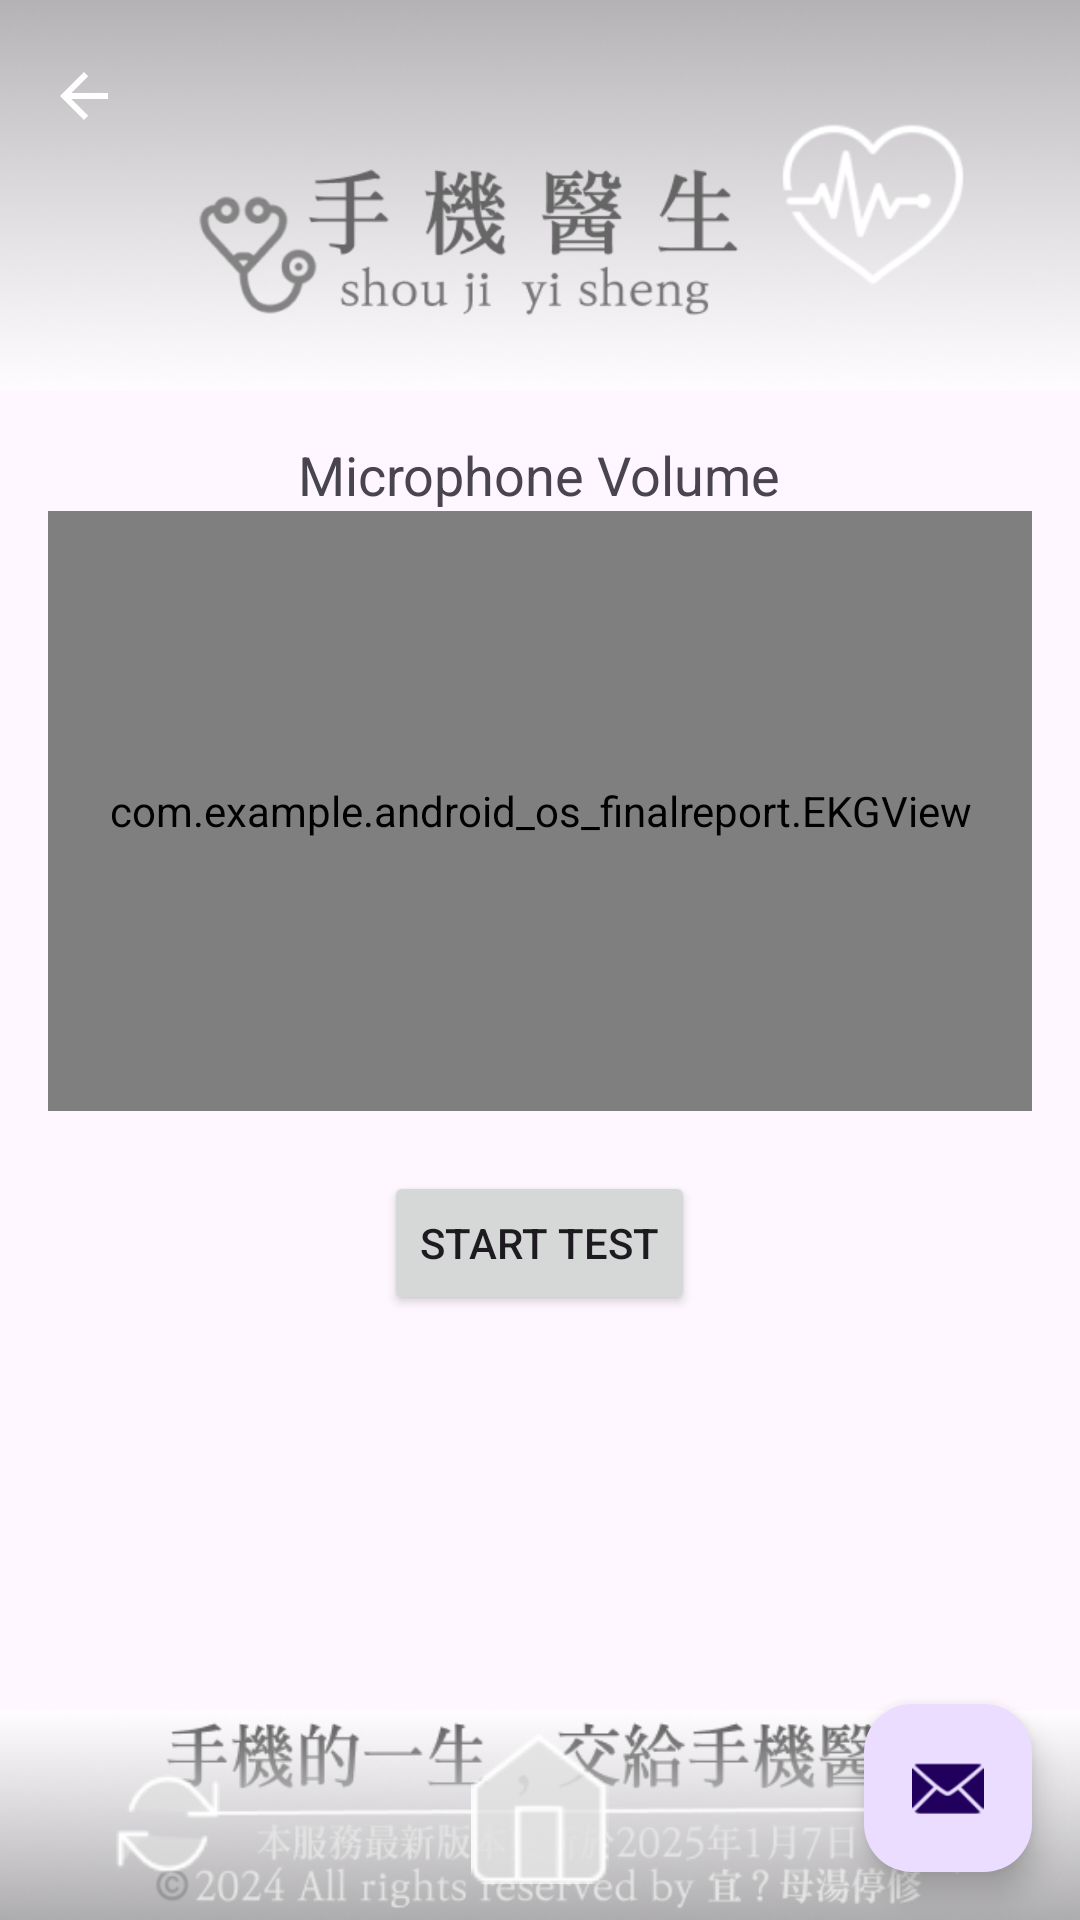

Named icons in this screenshot (1080 × 1920) and their centers, (x=x, y=y):
Home: (x=540, y=1809)
Refresh: (x=168, y=1824)
